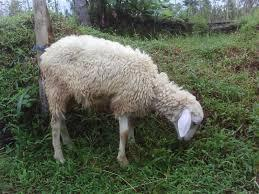Sheep: (155, 67, 208, 147)
